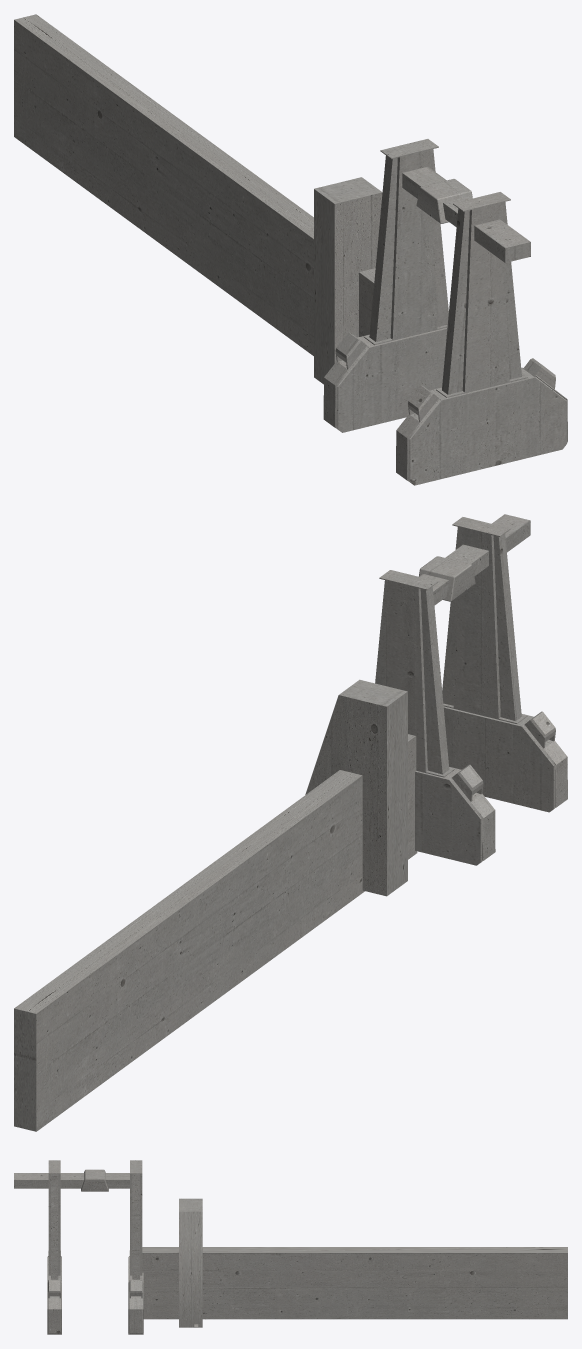
File: check_low.fbx
3 views of the same model, one above another, from view 1: azimuth 30°, elevation 25°; view 2: azimuth 150°, elevation 25°; view 3: azimuth 270°, elevation 25° (orthographic). The views are drawn at different scales.
Visible parts, largest first — view 1: pCube226, pCube255, pCube231, pCube272, pCube254; view 2: pCube226, pCube255, pCube231, pCube272, pCube254; view 3: pCube226, pCube255, pCube272, pCube231, pCube254.
Boxes of the visible parts, x1,y1,x2,y2 form: pCube226: (14, 14, 375, 355); pCube255: (396, 192, 567, 485); pCube231: (323, 139, 448, 432); pCube272: (314, 177, 382, 384); pCube254: (416, 179, 472, 223); pCube226: (14, 734, 417, 1131); pCube255: (442, 514, 567, 812); pCube231: (375, 570, 495, 865); pCube272: (305, 679, 407, 896); pCube254: (419, 556, 475, 601); pCube226: (142, 1247, 567, 1319); pCube255: (14, 1160, 84, 1334); pCube272: (179, 1198, 202, 1327); pCube231: (105, 1160, 143, 1334); pCube254: (81, 1169, 108, 1191).
Size of the model in its own units: 230 by 362 by 1214.
1 material, 1 textured.
